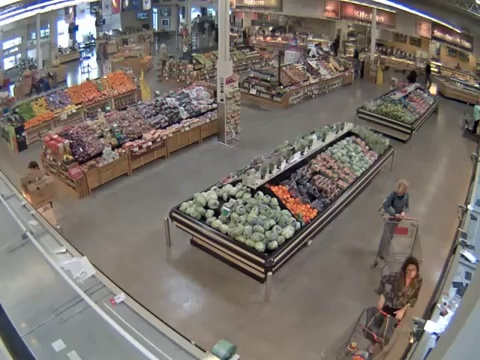face: (406, 265, 417, 277)
